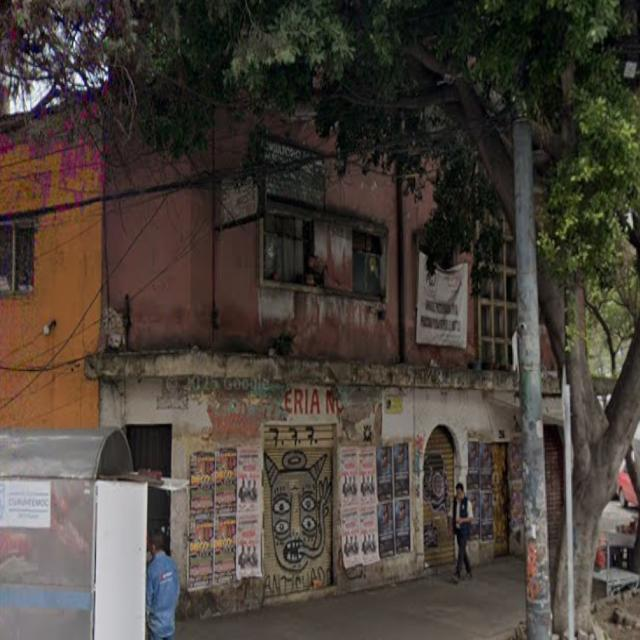stamps: (417, 253, 468, 348)
